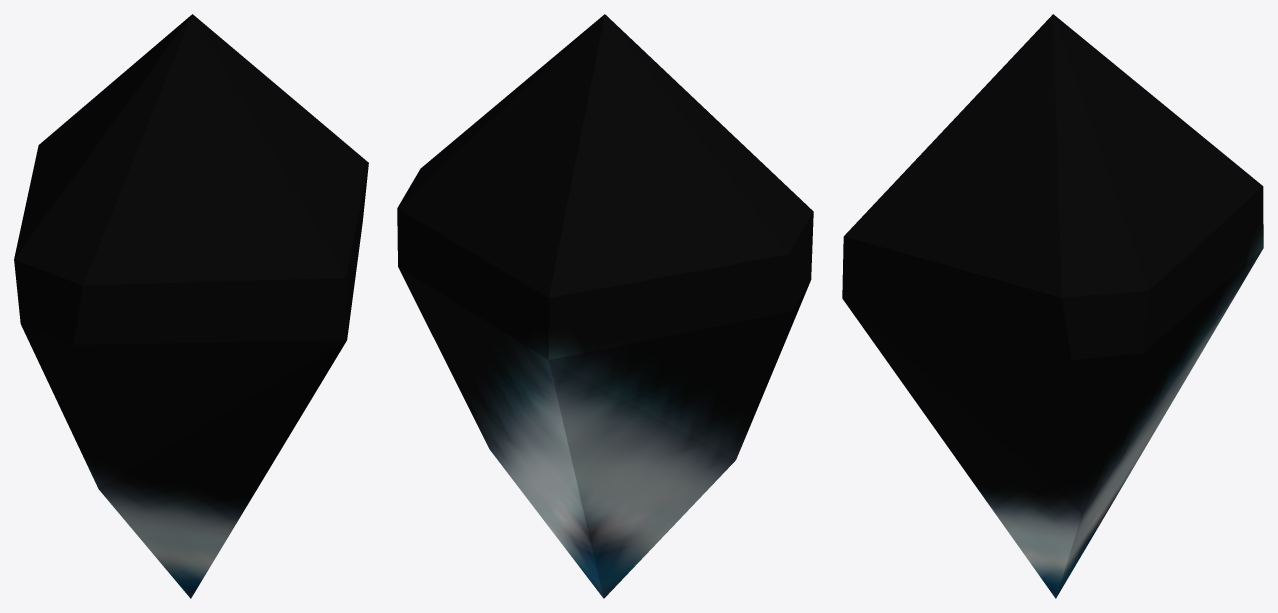
The model's file is TX_DLD_wuti19_shuijing001.FBX.
The picture shows the model from 3 angles, left to right: view 1: azimuth 30°, elevation 25°; view 2: azimuth 150°, elevation 25°; view 3: azimuth 270°, elevation 25°; orthographic projection.
Visible parts, largest first — view 1: TX_DLD_wuti19_shuijing001; view 2: TX_DLD_wuti19_shuijing001; view 3: TX_DLD_wuti19_shuijing001.
Part boxes in pixels (x1,y1,x2,y2): TX_DLD_wuti19_shuijing001: [14, 14, 368, 598]; TX_DLD_wuti19_shuijing001: [397, 14, 813, 598]; TX_DLD_wuti19_shuijing001: [842, 14, 1263, 598].
Size of the model in its own units: 139 by 216 by 141.
